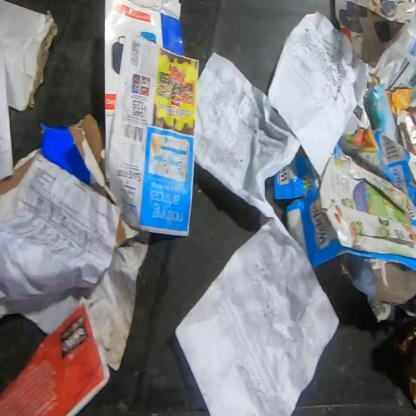cardboard: (272, 82, 415, 275), (103, 0, 185, 151), (0, 111, 118, 205), (0, 0, 60, 114), (394, 320, 416, 408)
soft_plastic: (115, 212, 140, 248)
